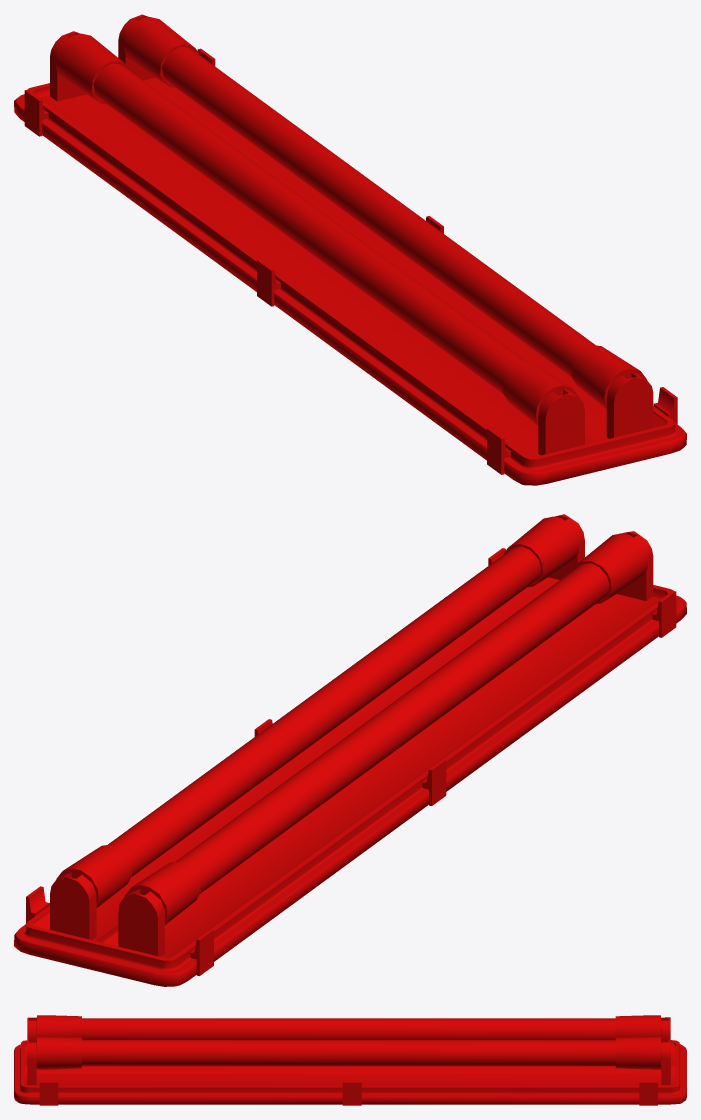
3 renders of one model, top to bottom at view 1: azimuth 30°, elevation 25°; view 2: azimuth 150°, elevation 25°; view 3: azimuth 270°, elevation 25°, orthographic. The views are drawn at different scales.
Visible parts, largest first — view 1: Mesh; view 2: Mesh; view 3: Mesh.
Part boxes in pixels (left/top/right/bottom): Mesh: left=14, top=14, right=686, bottom=485; Mesh: left=14, top=514, right=686, bottom=986; Mesh: left=14, top=1015, right=686, bottom=1105.
Size of the model in its own units: 0.2797 by 0.1192 by 1.44.
